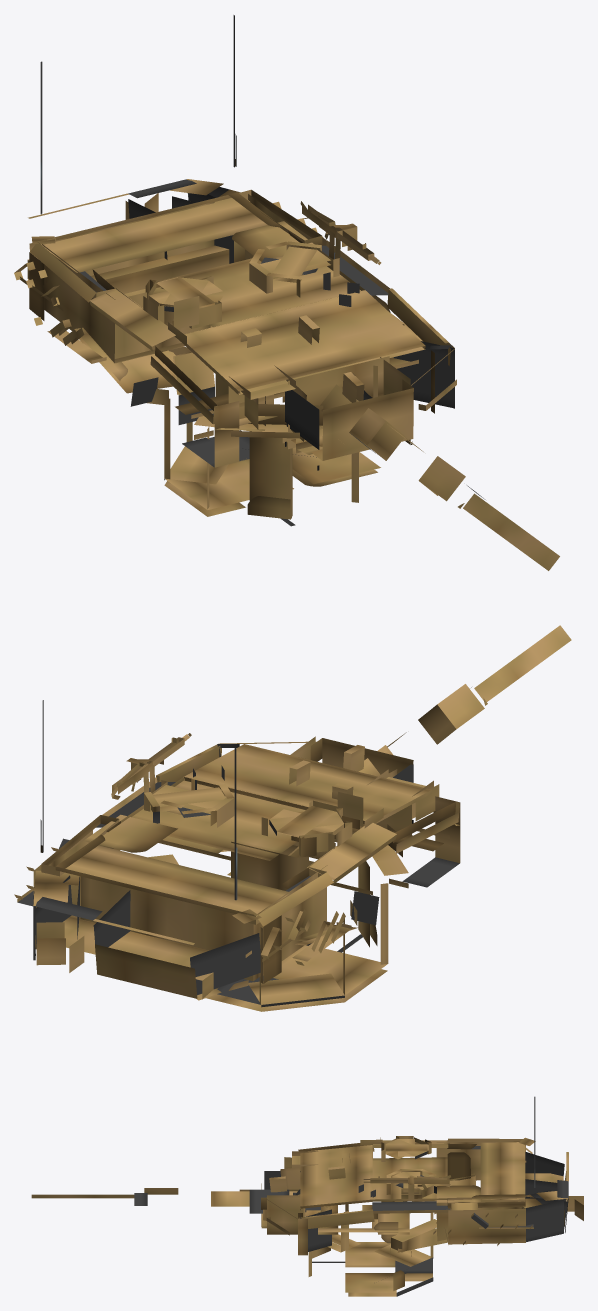
File: leopard2_turret.obj
3 views of the same model, one above another, from view 1: azimuth 30°, elevation 25°; view 2: azimuth 150°, elevation 25°; view 3: azimuth 270°, elevation 25° (orthographic). The views are drawn at different scales.
Visible parts, largest first — view 1: turret, gun; view 2: turret, gun; view 3: turret, gun.
Boxes of the visible parts, <box> form: turret: <box>14,15,456,526</box>; gun: <box>282,372,559,570</box>; turret: <box>14,700,460,1011</box>; gun: <box>227,625,571,875</box>; turret: <box>264,1096,583,1296</box>; gun: <box>31,1167,377,1228</box>.
Bounding box in the file's own units: 3.49 × 4.25 × 10.78.
